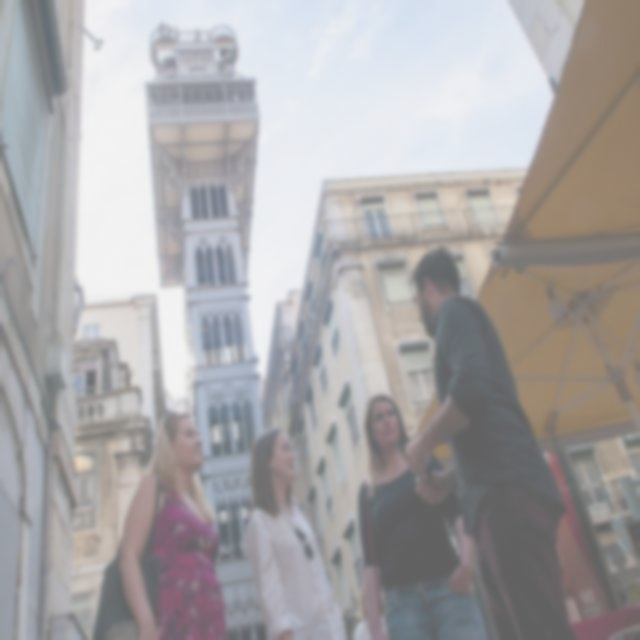pessoa: (403, 242, 575, 638), (89, 406, 236, 639), (356, 391, 488, 639), (242, 422, 362, 639), (352, 587, 389, 639)
